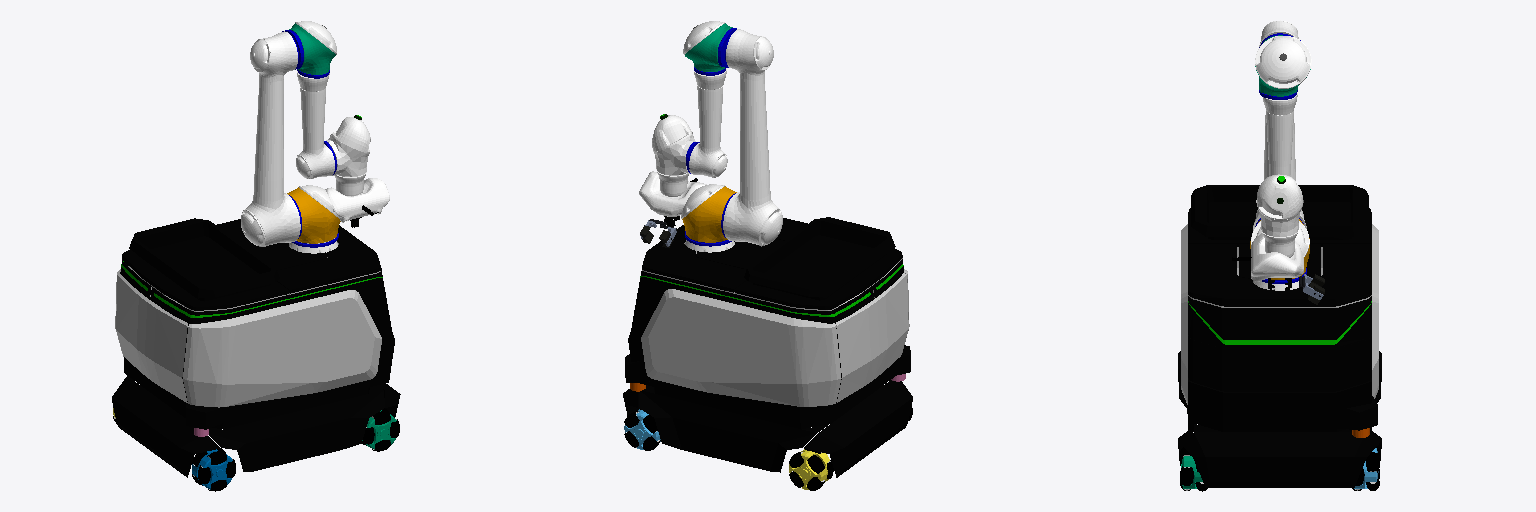
URDF robot description (whagv5_5):
<?xml version="1.0" encoding="utf-8"?>
<robot name="whagv5_5">
  <link name="base_link">
    <visual>
      <geometry>
        <mesh filename="../meshes/simplified/cover.dae" scale="1 1 1"/>
      </geometry>
    </visual>
    <collision>
      <geometry>
        <mesh filename="../meshes/simplified/cover.dae" scale="1 1 1"/>
      </geometry>
    </collision>
    <inertial>
      <origin rpy="0 0 0" xyz="0 0 0.1"/>
      <mass value="100"/>
      <inertia ixx="0.045" ixy="0" ixz="0" iyy="0.179" iyz="0" izz="0.194"/>
    </inertial>
  </link>
  <link name="omniwheel_front_right">
    <visual>
      <geometry>
        <mesh filename="../meshes/simplified/omniwheel.dae" scale="1 1 1"/>
      </geometry>
    </visual>
    <collision>
      <geometry>
        <mesh filename="../meshes/simplified/omniwheel.dae" scale="1 1 1"/>
      </geometry>
    </collision>
    <inertial>
      <origin rpy="0 0 0" xyz="0 0 0"/>
      <mass value="5"/>
      <inertia ixx="0.004" ixy="0" ixz="0" iyy="0.004" iyz="0" izz="0.004"/>
    </inertial>
  </link>
  <joint name="omniwheel_front_right_joint" type="continuous">
    <parent link="base_link"/>
    <child link="omniwheel_front_right"/>
    <origin rpy="0 0 0" xyz="0.36 0.3 0.0725"/>
    <axis xyz="0 1 0"/>
  </joint>
  <link name="omniwheel_front_left">
    <visual>
      <geometry>
        <mesh filename="../meshes/simplified/omniwheel.dae" scale="1 1 1"/>
      </geometry>
    </visual>
    <collision>
      <geometry>
        <mesh filename="../meshes/simplified/omniwheel.dae" scale="1 1 1"/>
      </geometry>
    </collision>
    <inertial>
      <origin rpy="0 0 0" xyz="0 0 0"/>
      <mass value="5"/>
      <inertia ixx="0.004" ixy="0" ixz="0" iyy="0.004" iyz="0" izz="0.004"/>
    </inertial>
  </link>
  <joint name="omniwheel_front_left_joint" type="continuous">
    <parent link="base_link"/>
    <child link="omniwheel_front_left"/>
    <origin rpy="0 0 0" xyz="0.36 -0.3 0.0725"/>
    <axis xyz="0 1 0"/>
  </joint>
  <link name="omniwheel_back_right">
    <visual>
      <geometry>
        <mesh filename="../meshes/simplified/omniwheel.dae" scale="1 1 1"/>
      </geometry>
    </visual>
    <collision>
      <geometry>
        <mesh filename="../meshes/simplified/omniwheel.dae" scale="1 1 1"/>
      </geometry>
    </collision>
    <inertial>
      <origin rpy="0 0 0" xyz="0 0 0"/>
      <mass value="5"/>
      <inertia ixx="0.004" ixy="0" ixz="0" iyy="0.004" iyz="0" izz="0.004"/>
    </inertial>
  </link>
  <joint name="omniwheel_back_right_joint" type="continuous">
    <parent link="base_link"/>
    <child link="omniwheel_back_right"/>
    <origin rpy="0 0 0" xyz="-0.36 0.3 0.0725"/>
    <axis xyz="0 1 0"/>
  </joint>
  <link name="omniwheel_back_left">
    <visual>
      <geometry>
        <mesh filename="../meshes/simplified/omniwheel.dae" scale="1 1 1"/>
      </geometry>
    </visual>
    <collision>
      <geometry>
        <mesh filename="../meshes/simplified/omniwheel.dae" scale="1 1 1"/>
      </geometry>
    </collision>
    <inertial>
      <origin rpy="0 0 0" xyz="0 0 0"/>
      <mass value="5"/>
      <inertia ixx="0.004" ixy="0" ixz="0" iyy="0.004" iyz="0" izz="0.004"/>
    </inertial>
  </link>
  <joint name="omniwheel_back_left_joint" type="continuous">
    <parent link="base_link"/>
    <child link="omniwheel_back_left"/>
    <origin rpy="0 0 0" xyz="-0.36 -0.3 0.0725"/>
    <axis xyz="0 1 0"/>
  </joint>
  <link name="laser_horizontal_front_link">
    <visual>
      <origin xyz="0 0 0"/>
      <geometry>
        <cylinder length="0.05" radius="0.03"/>
      </geometry>
      <material name="orange"/>
    </visual>
    <inertial>
      <mass value="0.1"/>
      <inertia ixx="0.1" ixy="0" ixz="0" iyy="0.1" iyz="0" izz="0.1"/>
    </inertial>
  </link>
  <joint name="laser_horizontal_front_joint" type="fixed">
    <parent link="base_link"/>
    <child link="laser_horizontal_front_link"/>
    <origin rpy="3.141592653589793 0 0.58" xyz="0.404 0.285 0.25"/>
  </joint>
  <gazebo reference="laser_horizontal_front_link">
    <material>Gazebo/Orange</material>
    <sensor name="horizontal_front_hokuyo_sensor" type="ray">
      <pose>0.025 0 0.1 0 0 0</pose>
      <visualize>false</visualize>
      <update_rate>33.34</update_rate>
      <ray>
        <scan>
          <horizontal>
            <samples>1080</samples>
            <resolution>1</resolution>
            <min_angle>-2.2689280275926285</min_angle>
            <max_angle>2.2689280275926285</max_angle>
          </horizontal>
        </scan>
        <range>
          <min>0.05</min>
          <max>30.0</max>
          <resolution>0.001</resolution>
        </range>
        <noise>
          <type>gaussian</type>
          <mean>0.0</mean>
          <stddev>0.01</stddev>
        </noise>
      </ray>
      <plugin filename="libgazebo_ros_laser.so" name="gazebo_ros_head_hokuyo_controller">
        <topicName>/laser_horizontal_front</topicName>
        <frameName>laser_horizontal_front_link</frameName>
      </plugin>
    </sensor>
  </gazebo>
  <link name="laser_horizontal_rear_link">
    <visual>
      <origin xyz="0 0 0"/>
      <geometry>
        <cylinder length="0.05" radius="0.03"/>
      </geometry>
      <material name="orange"/>
    </visual>
    <inertial>
      <mass value="0.1"/>
      <inertia ixx="0.1" ixy="0" ixz="0" iyy="0.1" iyz="0" izz="0.1"/>
    </inertial>
  </link>
  <joint name="laser_horizontal_rear_joint" type="fixed">
    <parent link="base_link"/>
    <child link="laser_horizontal_rear_link"/>
    <origin rpy="3.141592653589793 0 -2.5" xyz="-0.404 -0.285 0.25"/>
  </joint>
  <gazebo reference="laser_horizontal_rear_link">
    <material>Gazebo/Orange</material>
    <sensor name="horizontal_rear_hokuyo_sensor" type="ray">
      <pose>0.025 0 0.1 0 0 0</pose>
      <visualize>false</visualize>
      <update_rate>33.34</update_rate>
      <ray>
        <scan>
          <horizontal>
            <samples>1080</samples>
            <resolution>1</resolution>
            <min_angle>-2.2689280275926285</min_angle>
            <max_angle>2.2689280275926285</max_angle>
          </horizontal>
        </scan>
        <range>
          <min>0.05</min>
          <max>30.0</max>
          <resolution>0.001</resolution>
        </range>
        <noise>
          <type>gaussian</type>
          <mean>0.0</mean>
          <stddev>0.01</stddev>
        </noise>
      </ray>
      <plugin filename="libgazebo_ros_laser.so" name="gazebo_ros_head_hokuyo_controller">
        <topicName>/laser_horizontal_rear</topicName>
        <frameName>laser_horizontal_rear_link</frameName>
      </plugin>
    </sensor>
  </gazebo>
  <joint name="arm_base_joint" type="fixed">
    <parent link="base_link"/>
    <child link="arm_base_link"/>
    <origin rpy="0 0 -1.5707963267948966" xyz="0.253 0 0.64"/>
  </joint>
  <link name="arm_base_link">
    <visual>
      <origin rpy="0 0 0" xyz="0 0 0"/>
      <geometry>
        <mesh filename="../meshes/yaskawa_robot_arm/base.dae"/>
      </geometry>
    </visual>
    <inertial>
      <origin xyz="0 0 0.0575"/>
      <mass value="2"/>
      <inertia ixx="0.00440833333333" ixy="0" ixz="0" iyy="0.00440833333333" iyz="0" izz="0.00440833333333"/>
    </inertial>
  </link>
  <link name="arm_s_axis_link">
    <visual>
      <origin rpy="0 1.57079632679 0" xyz="0 0 0"/>
      <geometry>
        <mesh filename="../meshes/yaskawa_robot_arm/s_axis.dae"/>
      </geometry>
    </visual>
    <inertial>
      <origin rpy="0 0 3.14159265359" xyz="-0.06 0 0.06"/>
      <mass value="2"/>
      <inertia ixx="0.0048" ixy="0" ixz="0" iyy="0.0048" iyz="0" izz="0.0048"/>
    </inertial>
  </link>
  <joint name="arm_s_axis_joint" type="continuous">
    <parent link="arm_base_link"/>
    <child link="arm_s_axis_link"/>
    <origin rpy="1.57079632679 -1.57079632679 0" xyz="0 0 0.115"/>
  </joint>
  <transmission name="arm_s_axis_trans">
    <type>transmission_interface/SimpleTransmission</type>
    <joint name="arm_s_axis_joint">
      <hardwareInterface>hardware_interface/EffortJointInterface</hardwareInterface>
    </joint>
    <actuator name="arm_s_axis_motor">
      <hardwareInterface>hardware_interface/EffortJointInterface</hardwareInterface>
      <mechanicalReduction>1</mechanicalReduction>
    </actuator>
  </transmission>
  <link name="arm_l_axis_link">
    <visual>
      <origin rpy="0 0 0" xyz="0 0 0"/>
      <geometry>
        <mesh filename="../meshes/yaskawa_robot_arm/l_axis.dae"/>
      </geometry>
    </visual>
    <inertial>
      <origin xyz="0 0 0.35"/>
      <mass value="2"/>
      <inertia ixx="0.0829166666667" ixy="0" ixz="0" iyy="0.0829166666667" iyz="0" izz="0.0829166666667"/>
    </inertial>
  </link>
  <joint name="arm_l_axis_joint" type="continuous">
    <parent link="arm_s_axis_link"/>
    <child link="arm_l_axis_link"/>
    <origin rpy="0 1.57079632679 0" xyz="0.135 0 0.134"/>
  </joint>
  <transmission name="arm_l_axis_trans">
    <type>transmission_interface/SimpleTransmission</type>
    <joint name="arm_l_axis_joint">
      <hardwareInterface>hardware_interface/EffortJointInterface</hardwareInterface>
    </joint>
    <actuator name="arm_l_axis_motor">
      <hardwareInterface>hardware_interface/EffortJointInterface</hardwareInterface>
      <mechanicalReduction>1</mechanicalReduction>
    </actuator>
  </transmission>
  <link name="arm_u_axis_link">
    <visual>
      <origin rpy="0 3.14159265359 0" xyz="0 0 0"/>
      <geometry>
        <mesh filename="../meshes/yaskawa_robot_arm/u_axis.dae"/>
      </geometry>
    </visual>
    <inertial>
      <origin xyz="0.05 0 -0.05"/>
      <mass value="1"/>
      <inertia ixx="0.00166666666667" ixy="0" ixz="0" iyy="0.00166666666667" iyz="0" izz="0.00166666666667"/>
    </inertial>
  </link>
  <joint name="arm_u_axis_joint" type="continuous">
    <parent link="arm_l_axis_link"/>
    <child link="arm_u_axis_link"/>
    <origin rpy="0 3.14159265359 0" xyz="0.014 0 0.7"/>
  </joint>
  <transmission name="arm_u_axis_trans">
    <type>transmission_interface/SimpleTransmission</type>
    <joint name="arm_u_axis_joint">
      <hardwareInterface>hardware_interface/EffortJointInterface</hardwareInterface>
    </joint>
    <actuator name="arm_u_axis_motor">
      <hardwareInterface>hardware_interface/EffortJointInterface</hardwareInterface>
      <mechanicalReduction>1</mechanicalReduction>
    </actuator>
  </transmission>
  <link name="arm_r_axis_link">
    <visual>
      <origin rpy="3.14159265359 -1.57079632679 0" xyz="0 0 0"/>
      <geometry>
        <mesh filename="../meshes/yaskawa_robot_arm/r_axis.dae"/>
      </geometry>
    </visual>
    <inertial>
      <origin xyz="-0.03 0 0.19"/>
      <mass value="0.5"/>
      <inertia ixx="0.00632916666667" ixy="0" ixz="0" iyy="0.00632916666667" iyz="0" izz="0.00632916666667"/>
    </inertial>
  </link>
  <joint name="arm_r_axis_joint" type="continuous">
    <parent link="arm_u_axis_link"/>
    <child link="arm_r_axis_link"/>
    <origin rpy="3.14159265359 1.57079632679 0" xyz="-0.119 0 0.130"/>
  </joint>
  <transmission name="arm_r_axis_trans">
    <type>transmission_interface/SimpleTransmission</type>
    <joint name="arm_r_axis_joint">
      <hardwareInterface>hardware_interface/EffortJointInterface</hardwareInterface>
    </joint>
    <actuator name="arm_r_axis_motor">
      <hardwareInterface>hardware_interface/EffortJointInterface</hardwareInterface>
      <mechanicalReduction>1</mechanicalReduction>
    </actuator>
  </transmission>
  <link name="arm_b_axis_link">
    <visual>
      <origin rpy="-1.57079632679 3.14159265359 0" xyz="0 0 0"/>
      <geometry>
        <mesh filename="../meshes/yaskawa_robot_arm/b_axis.dae"/>
      </geometry>
    </visual>
    <inertial>
      <origin xyz="0.05 0.045 0"/>
      <mass value="0.2"/>
      <inertia ixx="0.00026" ixy="0" ixz="0" iyy="0.00026" iyz="0" izz="0.00026"/>
    </inertial>
  </link>
  <joint name="arm_b_axis_joint" type="continuous">
    <parent link="arm_r_axis_link"/>
    <child link="arm_b_axis_link"/>
    <!-- <origin rpy="-${pi / 2} 0 0" xyz="0.05 0 -0.38" /> -->
    <origin rpy="3.14159265359 1.57079632679 0" xyz="-0.368 0 0.04"/>
  </joint>
  <transmission name="arm_b_axis_trans">
    <type>transmission_interface/SimpleTransmission</type>
    <joint name="arm_b_axis_joint">
      <hardwareInterface>hardware_interface/EffortJointInterface</hardwareInterface>
    </joint>
    <actuator name="arm_b_axis_motor">
      <hardwareInterface>hardware_interface/EffortJointInterface</hardwareInterface>
      <mechanicalReduction>1</mechanicalReduction>
    </actuator>
  </transmission>
  <link name="arm_t_axis_link">
    <visual>
      <origin rpy="0 0 -1.57079632679" xyz="0 0 0"/>
      <geometry>
        <mesh filename="../meshes/yaskawa_robot_arm/t_axis.dae"/>
      </geometry>
    </visual>
    <inertial>
      <origin xyz="0.05 0 0"/>
      <mass value="0.1"/>
      <inertia ixx="4.16666666667e-05" ixy="0" ixz="0" iyy="4.16666666667e-05" iyz="0" izz="4.16666666667e-05"/>
    </inertial>
  </link>
  <joint name="arm_t_axis_joint" type="continuous">
    <parent link="arm_b_axis_link"/>
    <child link="arm_t_axis_link"/>
    <origin rpy="1.57079632679 1.57079632679 0" xyz="-0.121 0 0.05"/>
    <axis rpy="0 0 0" xyz="-1 0 0"/>
  </joint>
  <transmission name="arm_t_axis_trans">
    <type>transmission_interface/SimpleTransmission</type>
    <joint name="arm_t_axis_joint">
      <hardwareInterface>hardware_interface/EffortJointInterface</hardwareInterface>
    </joint>
    <actuator name="arm_t_axis_motor">
      <hardwareInterface>hardware_interface/EffortJointInterface</hardwareInterface>
      <mechanicalReduction>1</mechanicalReduction>
    </actuator>
  </transmission>
  <link name="arm_gripper_left_link">
    <visual>
      <origin rpy="0 0 -1.57079632679" xyz="0 0 0"/>
      <geometry>
        <mesh filename="../meshes/yaskawa_robot_arm/gripper_left.dae"/>
      </geometry>
    </visual>
    <inertial>
      <origin xyz="0.05 0 0"/>
      <mass value="0.1"/>
      <inertia ixx="4.16666666667e-05" ixy="0" ixz="0" iyy="4.16666666667e-05" iyz="0" izz="4.16666666667e-05"/>
    </inertial>
  </link>
  <joint name="arm_gripper_left_axis_joint" type="prismatic">
    <parent link="arm_t_axis_link"/>
    <child link="arm_gripper_left_link"/>
    <origin rpy="0 0 0" xyz="0 0 0"/>
    <axis xyz="0 1 0"/>
    <limit effort="1000.0" lower="-0.05" upper="0.03" velocity="0.5"/>
  </joint>
  <transmission name="arm_gripper_left_trans">
    <type>transmission_interface/SimpleTransmission</type>
    <joint name="arm_gripper_left_axis_joint">
      <hardwareInterface>hardware_interface/EffortJointInterface</hardwareInterface>
    </joint>
    <actuator name="arm_gripper_left_motor">
      <hardwareInterface>hardware_interface/EffortJointInterface</hardwareInterface>
      <mechanicalReduction>1</mechanicalReduction>
    </actuator>
  </transmission>
  <link name="arm_gripper_right_link">
    <visual>
      <origin rpy="0 0 -1.57079632679" xyz="0 0 0"/>
      <geometry>
        <mesh filename="../meshes/yaskawa_robot_arm/gripper_right.dae"/>
      </geometry>
    </visual>
    <inertial>
      <origin xyz="0.05 0 0"/>
      <mass value="0.1"/>
      <inertia ixx="4.16666666667e-05" ixy="0" ixz="0" iyy="4.16666666667e-05" iyz="0" izz="4.16666666667e-05"/>
    </inertial>
  </link>
  <joint name="arm_gripper_right_axis_joint" type="prismatic">
    <parent link="arm_t_axis_link"/>
    <child link="arm_gripper_right_link"/>
    <origin rpy="0 0 0" xyz="0 0 0"/>
    <axis xyz="0 1 0"/>
    <limit effort="1000.0" lower="-0.03" upper="0.05" velocity="0.5"/>
  </joint>
  <transmission name="arm_gripper_right_trans">
    <type>transmission_interface/SimpleTransmission</type>
    <joint name="arm_gripper_right_axis_joint">
      <hardwareInterface>hardware_interface/EffortJointInterface</hardwareInterface>
    </joint>
    <actuator name="arm_gripper_right_motor">
      <hardwareInterface>hardware_interface/EffortJointInterface</hardwareInterface>
      <mechanicalReduction>1</mechanicalReduction>
    </actuator>
  </transmission>
  <gazebo>
    <plugin filename="libgazebo_ros_control.so" name="gazebo_ros_control">
      <robotNamespace>/yaskawa_arm</robotNamespace>
      <legacyModeNS>true</legacyModeNS>
    </plugin>
  </gazebo>
</robot>

--- What the picture shows (computed from the rendered views, not written in the file) ---
Views: 3 orthographic renders of the robot side by side, from view 1: azimuth 30°, elevation 25°; view 2: azimuth 150°, elevation 25°; view 3: azimuth 270°, elevation 25°.
Model whagv5_5 with 16 links and 15 joints (10 continuous, 2 prismatic, 3 fixed), rooted at base_link, posed every joint at zero.
Links seen in each view (by area): view 1: base_link, arm_l_axis_link, arm_r_axis_link, arm_s_axis_link, arm_t_axis_link, arm_u_axis_link, arm_b_axis_link, omniwheel_back_left, omniwheel_front_left; view 2: base_link, arm_l_axis_link, arm_r_axis_link, arm_s_axis_link, arm_b_axis_link, arm_u_axis_link, arm_t_axis_link, omniwheel_back_right, omniwheel_front_right; view 3: base_link, arm_u_axis_link, arm_b_axis_link, arm_t_axis_link, arm_r_axis_link, arm_l_axis_link, omniwheel_front_left, omniwheel_front_right, arm_s_axis_link.
Boxes of the visible links, bbox=[...] form: base_link: bbox=[112, 218, 400, 477]; arm_l_axis_link: bbox=[241, 31, 300, 246]; arm_r_axis_link: bbox=[296, 71, 334, 178]; arm_s_axis_link: bbox=[287, 185, 340, 247]; arm_t_axis_link: bbox=[325, 172, 389, 227]; arm_u_axis_link: bbox=[282, 21, 336, 78]; arm_b_axis_link: bbox=[324, 115, 370, 176]; omniwheel_back_left: bbox=[192, 448, 235, 491]; omniwheel_front_left: bbox=[362, 408, 399, 451]; base_link: bbox=[623, 217, 912, 477]; arm_l_axis_link: bbox=[723, 29, 782, 246]; arm_r_axis_link: bbox=[689, 69, 727, 177]; arm_s_axis_link: bbox=[681, 184, 736, 246]; arm_b_axis_link: bbox=[652, 114, 699, 175]; arm_u_axis_link: bbox=[683, 21, 736, 75]; arm_t_axis_link: bbox=[639, 169, 706, 226]; omniwheel_back_right: bbox=[789, 449, 833, 490]; omniwheel_front_right: bbox=[624, 409, 660, 450]; base_link: bbox=[1178, 185, 1381, 487]; arm_u_axis_link: bbox=[1255, 33, 1311, 99]; arm_b_axis_link: bbox=[1256, 174, 1303, 236]; arm_t_axis_link: bbox=[1232, 232, 1303, 289]; arm_r_axis_link: bbox=[1263, 93, 1297, 176]; arm_l_axis_link: bbox=[1253, 20, 1306, 230]; omniwheel_front_left: bbox=[1180, 447, 1207, 491]; omniwheel_front_right: bbox=[1352, 447, 1379, 490]; arm_s_axis_link: bbox=[1250, 218, 1309, 283].
Size in the robot's own frame: 1.03 by 0.7206 by 1.69 metres.
14 mesh visuals loaded from 11 distinct referenced files (11 Collada DAE).
